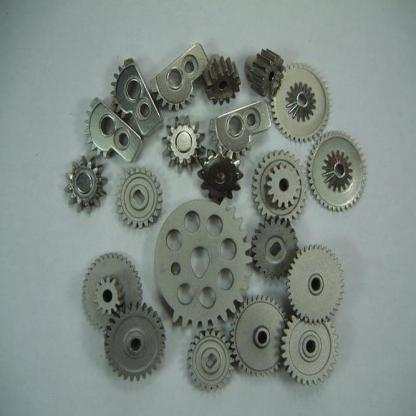FOD: (155, 196, 255, 331), (307, 124, 371, 214), (269, 58, 334, 146), (102, 301, 168, 386), (80, 250, 144, 335), (228, 293, 290, 378), (278, 309, 341, 388), (285, 246, 346, 324), (248, 147, 311, 222), (114, 164, 164, 233), (185, 328, 235, 395), (250, 218, 299, 280), (62, 154, 107, 216), (163, 114, 206, 176), (202, 53, 242, 108), (248, 46, 285, 98)
